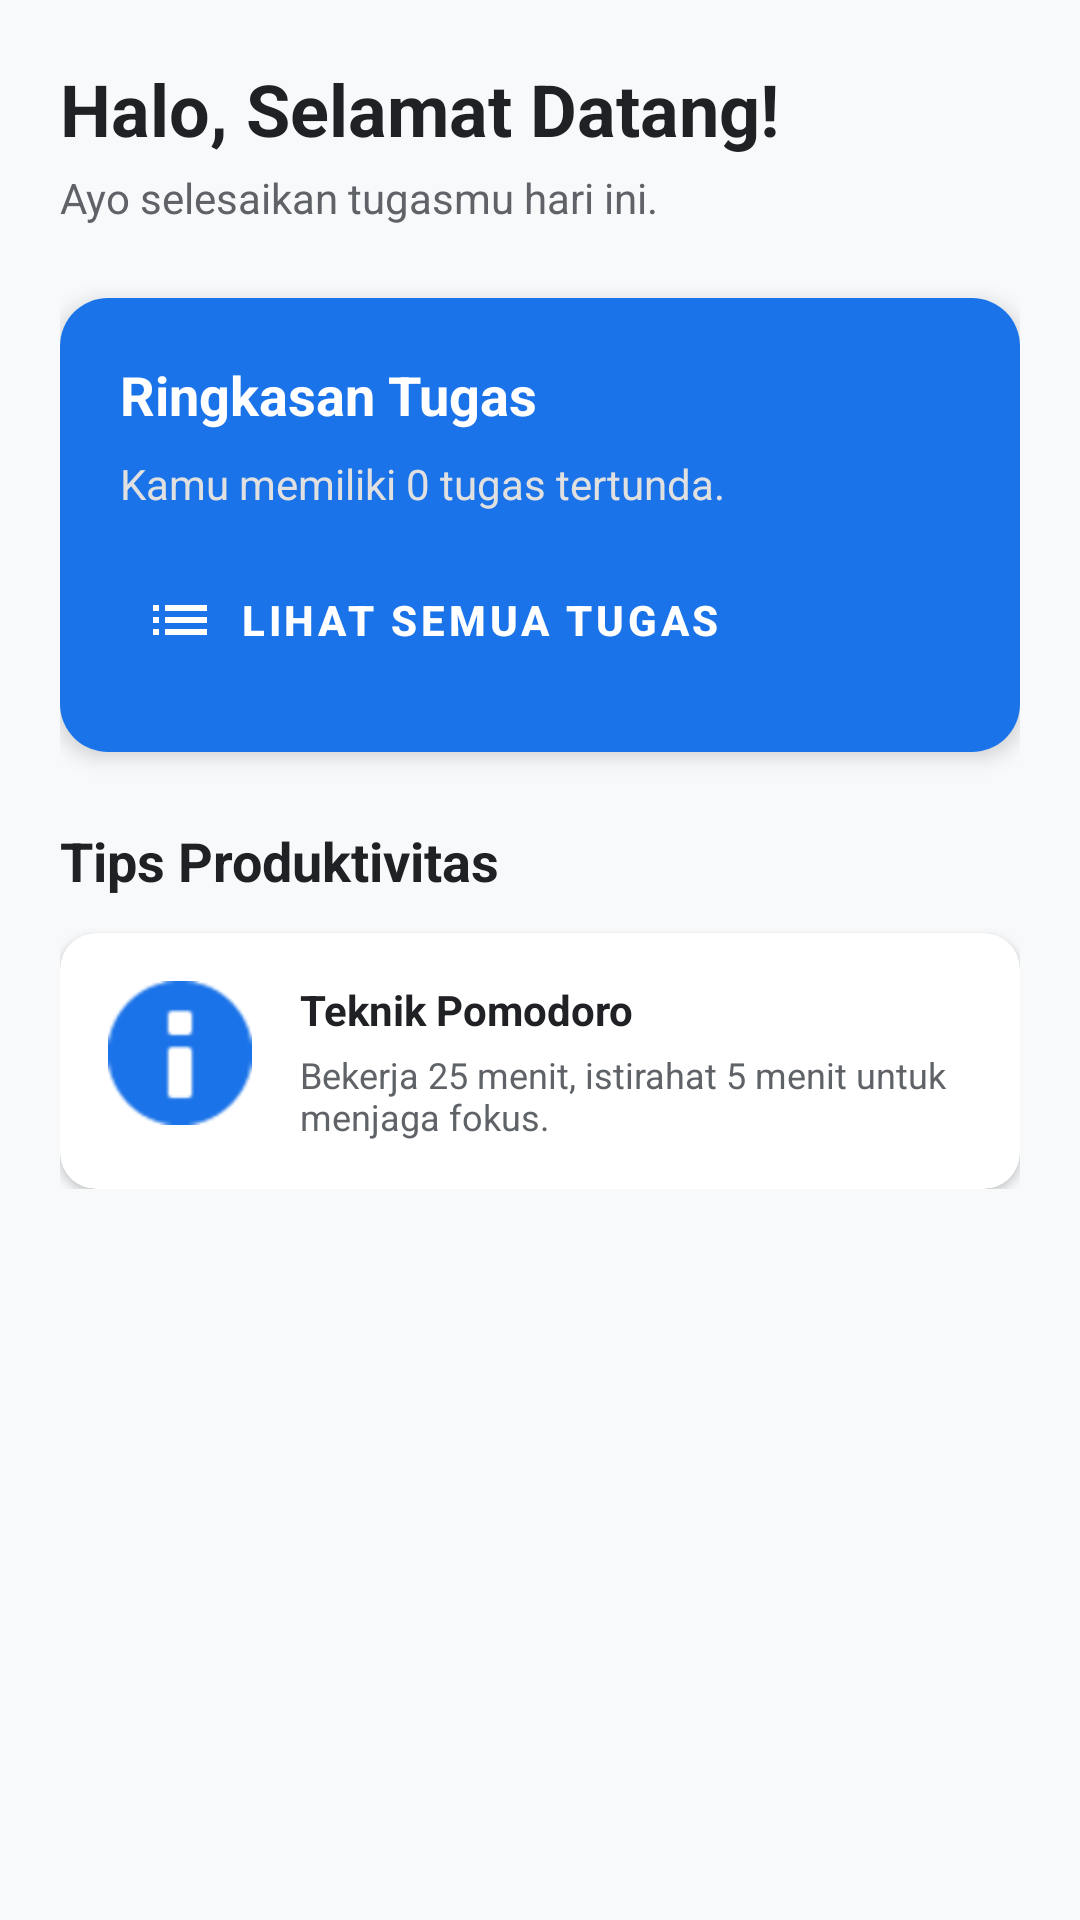

Named icons in this screenshot (1080 x 1920) and their centers, (x=x, y=y):
info: (x=180, y=1053)
